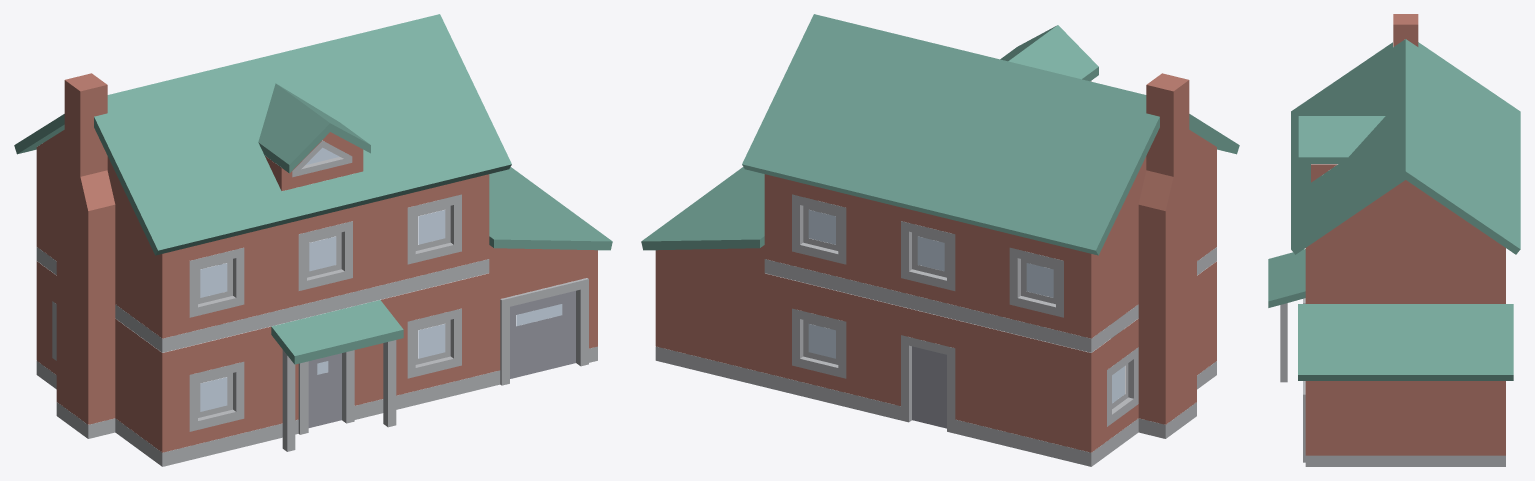
File: house-5.glb
3 views of the same model, side by side, from view 1: azimuth 30°, elevation 25°; view 2: azimuth 150°, elevation 25°; view 3: azimuth 270°, elevation 25° (orthographic). The views are drawn at different scales.
Parts seen in each view (by area): view 1: house_type08; view 2: house_type08; view 3: house_type08.
Boxes of the visible parts, bbox=[...] form: house_type08: bbox=[14, 14, 612, 466]; house_type08: bbox=[641, 14, 1239, 466]; house_type08: bbox=[1268, 14, 1520, 466].
Size of the model in its own units: 1.74 by 1.2 by 1.01.
Materials: 1 (1 with a texture image).
